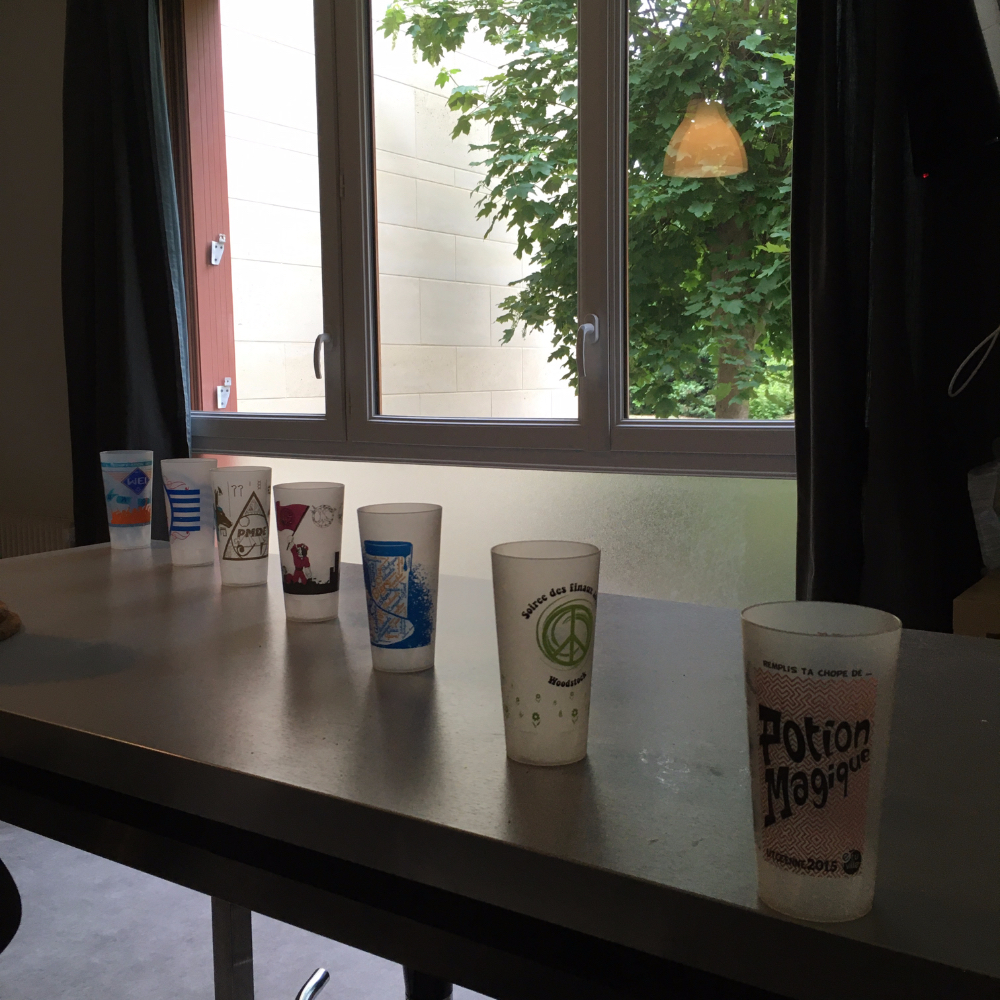ecocup: (740, 602, 902, 922), (488, 539, 599, 767), (357, 502, 442, 673), (272, 481, 345, 626), (211, 465, 273, 589), (162, 456, 218, 568), (99, 449, 155, 551)
